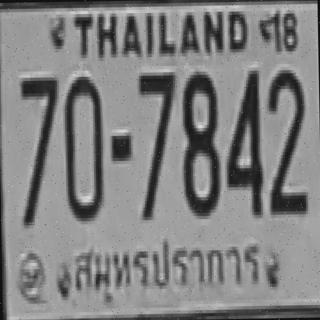N00: (62, 73, 102, 218)
N02: (265, 66, 305, 212)
N04: (223, 67, 261, 212)
N07: (19, 74, 59, 225), (137, 69, 175, 217), (19, 74, 58, 184)
N08: (180, 68, 218, 213)
P57: (65, 233, 264, 296)
